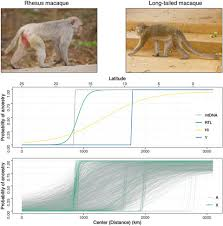monkey: (121, 6, 223, 78), (3, 5, 98, 72)
